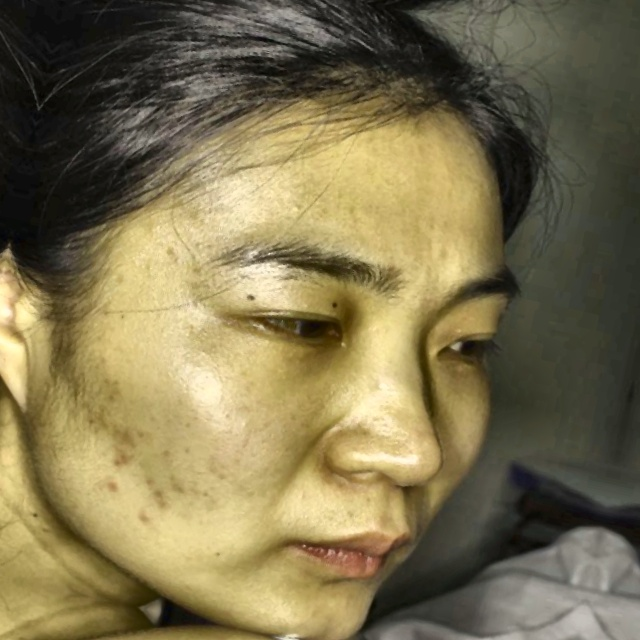comedone: (113, 417, 148, 452), (98, 447, 139, 476), (143, 486, 176, 517), (93, 472, 122, 497)
